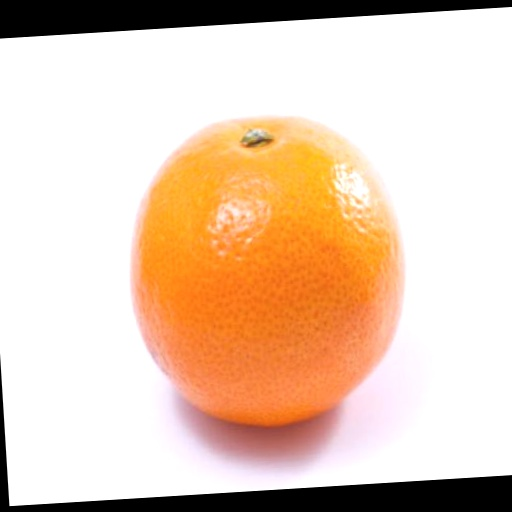fruit: (130, 116, 404, 425)
